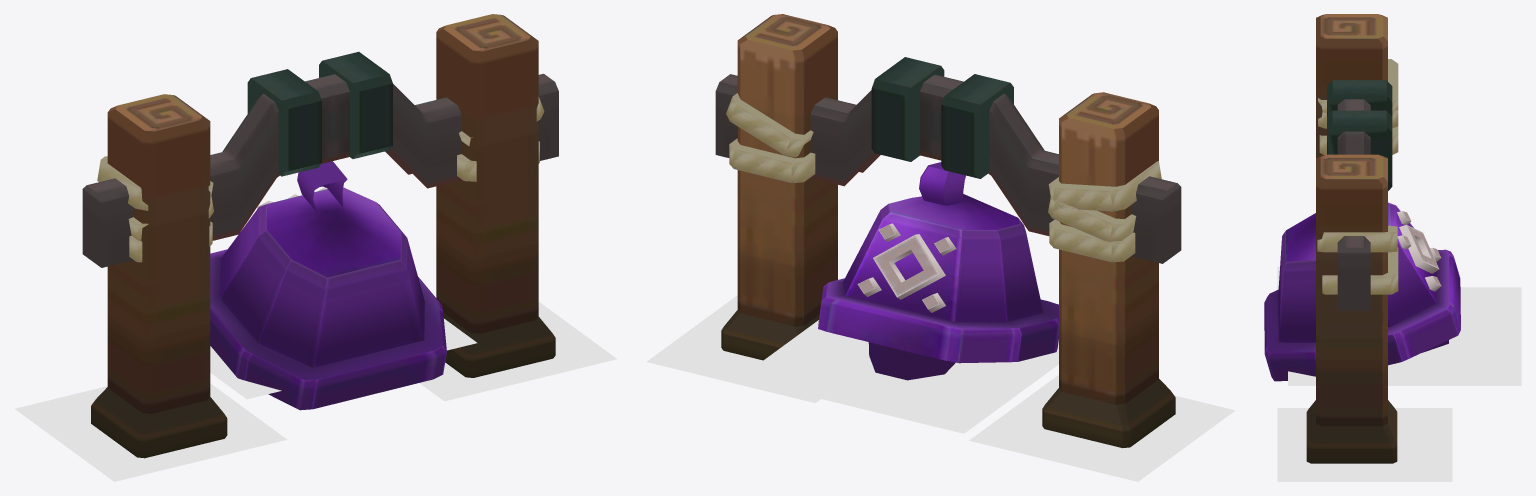
Rendered from [gimmick]bell_purple.fbx.
The picture shows the model from 3 angles, left to right: view 1: azimuth 30°, elevation 25°; view 2: azimuth 150°, elevation 25°; view 3: azimuth 270°, elevation 25°; orthographic projection. The views are drawn at different scales.
Parts seen in each view (by area): view 1: [gimmick]bell_purple, bell_purple, shadow2, shadow1, shadow; view 2: [gimmick]bell_purple, bell_purple, shadow, shadow2, shadow1; view 3: [gimmick]bell_purple, bell_purple, shadow, shadow1.
Part boxes in pixels (x1,y1,x2,y2): [gimmick]bell_purple: (82, 14, 558, 458); bell_purple: (210, 161, 446, 410); shadow2: (14, 383, 287, 481); shadow1: (419, 302, 616, 401); shadow: (210, 318, 476, 399); [gimmick]bell_purple: (715, 14, 1181, 448); bell_purple: (818, 162, 1058, 380); shadow: (738, 320, 1058, 433); shadow2: (969, 375, 1235, 481); shadow1: (646, 295, 820, 403); [gimmick]bell_purple: (1306, 14, 1398, 463); bell_purple: (1264, 202, 1460, 381); shadow: (1288, 287, 1521, 385); shadow1: (1277, 408, 1452, 481).
Bounding box in the file's own units: 2.61 × 1.59 × 1.32.
Materials: 2 (2 with a texture image).
